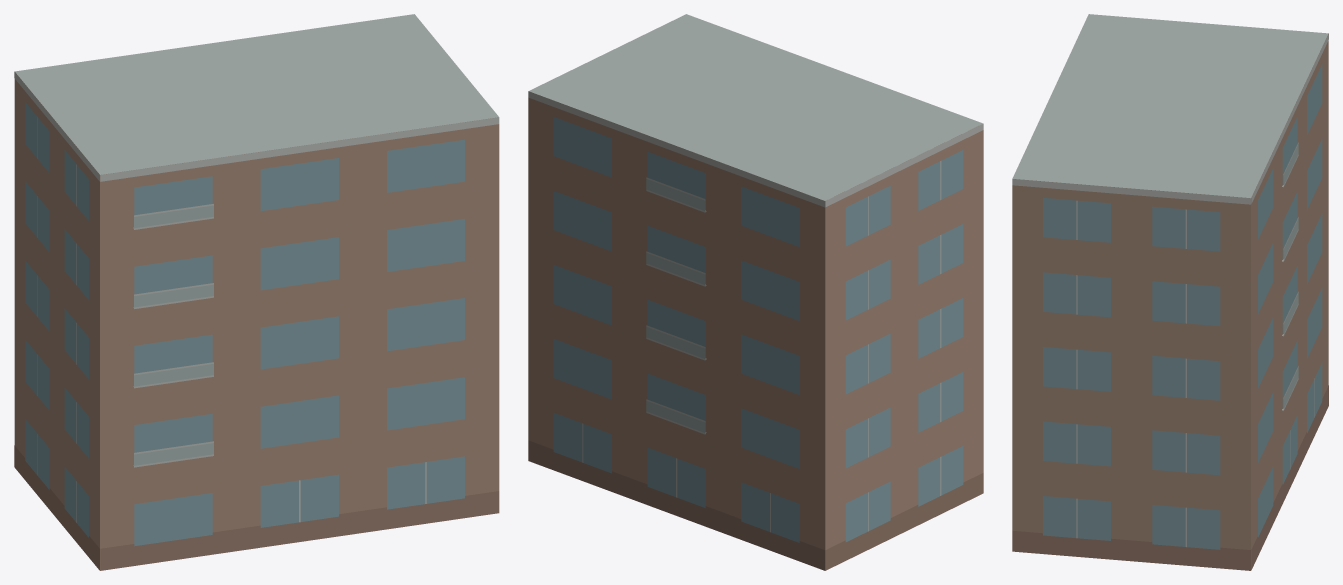
File: survey-upis-33025258.glb
3 renders of one model, left to right at view 1: azimuth 30°, elevation 25°; view 2: azimuth 150°, elevation 25°; view 3: azimuth 270°, elevation 25°, orthographic. The views are drawn at different scales.
Visible parts, largest first — view 1: survey-upis-33025258.tmp; view 2: survey-upis-33025258.tmp; view 3: survey-upis-33025258.tmp.
Part boxes in pixels (left/top/right/bottom): survey-upis-33025258.tmp: left=14, top=14, right=499, bottom=570; survey-upis-33025258.tmp: left=528, top=14, right=983, bottom=570; survey-upis-33025258.tmp: left=1012, top=14, right=1328, bottom=570.
Bounding box in the file's own units: 14.85 × 14 × 10.78.
